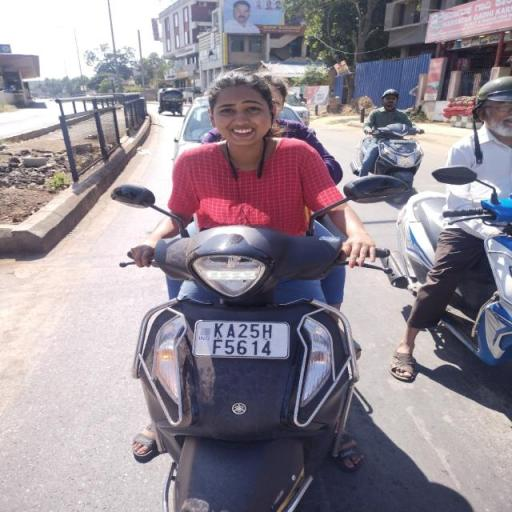bike: (93, 61, 398, 512)
numberplate: (194, 316, 292, 365)
withouthelmet: (210, 74, 272, 143)
